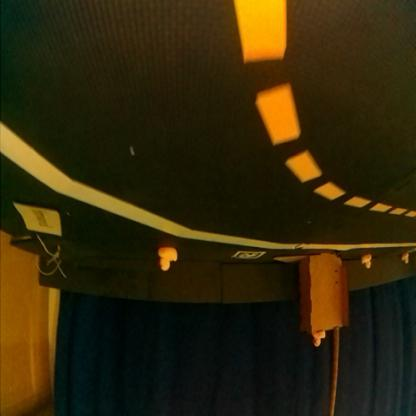Duckie: (158, 247, 178, 272), (314, 332, 326, 346), (364, 254, 372, 269), (403, 254, 409, 265)
QR code: (235, 252, 264, 260)
